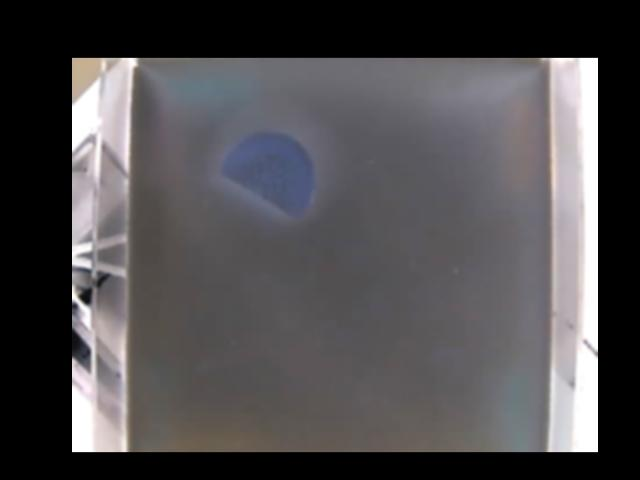Mooli: (218, 132, 314, 216)
